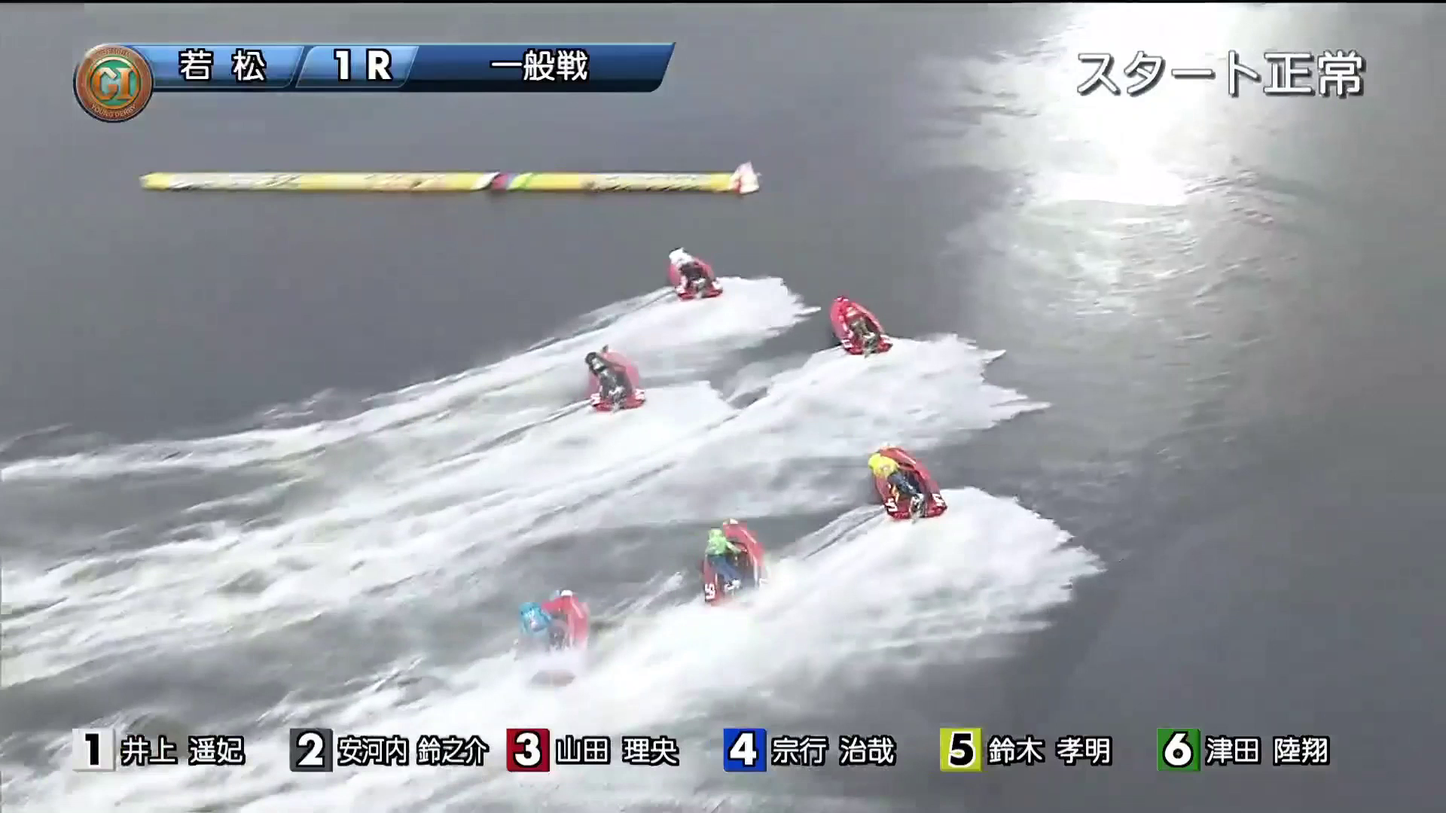１号艇: (656, 244, 727, 297)
２号艇: (567, 361, 695, 421)
３号艇: (815, 305, 912, 352)
４号艇: (663, 538, 797, 604)
５号艇: (470, 609, 593, 664)
６号艇: (874, 462, 973, 519)
